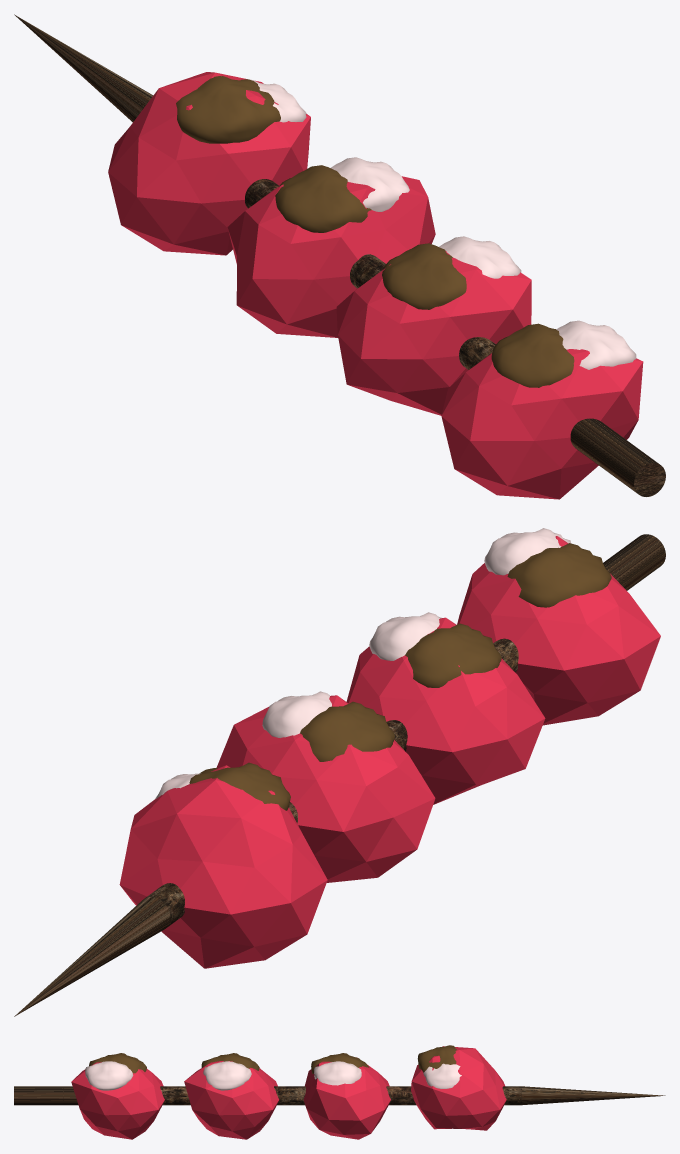
File: SatéSaltPepper.gltf
The picture shows the model from 3 angles, top to bottom: view 1: azimuth 30°, elevation 25°; view 2: azimuth 150°, elevation 25°; view 3: azimuth 270°, elevation 25°; orthographic projection. The views are drawn at different scales.
Parts seen in each view (by area): view 1: Sphere.007; view 2: Sphere.007; view 3: Sphere.007.
Boxes of the visible parts, x1,y1,x2,y2 form: Sphere.007: (14, 14, 665, 499); Sphere.007: (14, 528, 665, 1016); Sphere.007: (14, 1045, 665, 1139).
Bounding box in the file's own units: 0.3014 × 0.2487 × 1.71.
Materials: 4 (1 with a texture image).
